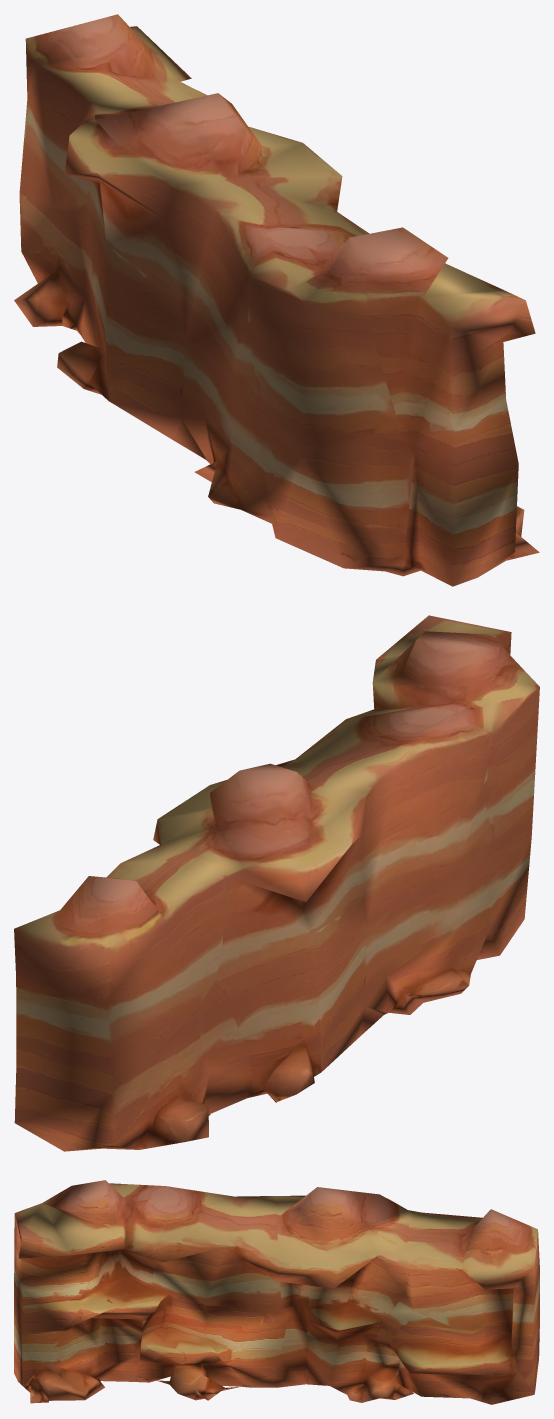
The model's file is cliff.glb.
3 renders of one model, top to bottom at view 1: azimuth 30°, elevation 25°; view 2: azimuth 150°, elevation 25°; view 3: azimuth 270°, elevation 25°, orthographic. The views are drawn at different scales.
Visible parts, largest first — view 1: tripo_node_ab5739e7-f311-4531-8561-698a63e9010d; view 2: tripo_node_ab5739e7-f311-4531-8561-698a63e9010d; view 3: tripo_node_ab5739e7-f311-4531-8561-698a63e9010d.
Part boxes in pixels (left/top/right/bottom): tripo_node_ab5739e7-f311-4531-8561-698a63e9010d: left=14, top=14, right=539, bottom=586; tripo_node_ab5739e7-f311-4531-8561-698a63e9010d: left=14, top=615, right=539, bottom=1151; tripo_node_ab5739e7-f311-4531-8561-698a63e9010d: left=14, top=1180, right=539, bottom=1404.
Bounding box in the file's own units: 0.3133 × 0.3862 × 0.9953.
Materials: 1 (1 with a texture image).
